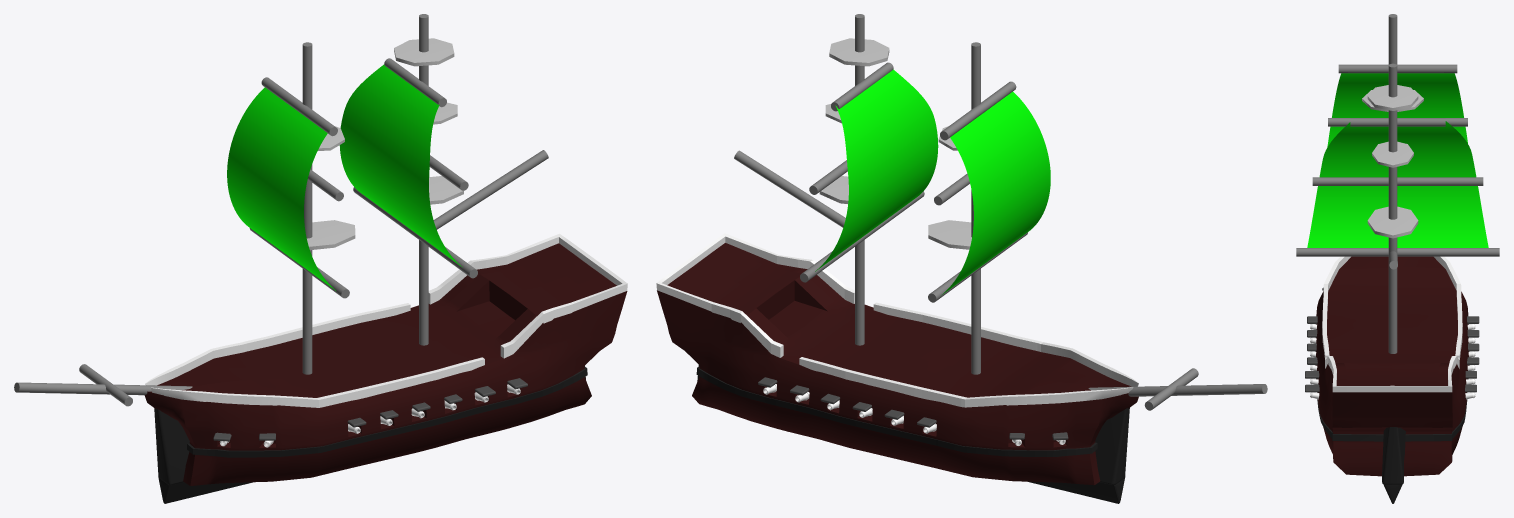
The model's file is boat.obj.
3 renders of one model, left to right at view 1: azimuth 30°, elevation 25°; view 2: azimuth 150°, elevation 25°; view 3: azimuth 270°, elevation 25°, orthographic. The views are drawn at different scales.
Visible parts, largest first — view 1: bateau:Trappe_a_canon_G_bateau:polySurface6, pPlane6, bateau:Trappe_a_canon_G_bateau:polySurface1, bateau:Trappe_a_canon_G_bateau:polySurface62, polySurface29, polySurface16, polySurface31, polySurface17, polySurface27, polySurface20, bateau:Trappe_a_canon_G_bateau:polySurface44, polySurface21 (+3 smaller); view 2: bateau:Trappe_a_canon_G_bateau:polySurface6, pPlane6, bateau:Trappe_a_canon_G_bateau:polySurface1, bateau:Trappe_a_canon_G_bateau:polySurface62, polySurface29, polySurface16, polySurface31, polySurface17, polySurface27, bateau:Trappe_a_canon_G_bateau:polySurface44, polySurface20, polySurface21 (+2 smaller); view 3: bateau:Trappe_a_canon_G_bateau:polySurface6, pPlane6, bateau:Trappe_a_canon_G_bateau:polySurface1, bateau:Trappe_a_canon_G_bateau:polySurface62, polySurface16, polySurface24, polySurface23, bateau:Trappe_a_canon_G_bateau:polySurface44, polySurface25, polySurface21, polySurface27, polySurface22 (+5 smaller).
Part boxes in pixels (x1,y1,x2,y2): bateau:Trappe_a_canon_G_bateau:polySurface6: (144,243,627,485); pPlane6: (227,64,462,290); bateau:Trappe_a_canon_G_bateau:polySurface1: (145,233,627,407); bateau:Trappe_a_canon_G_bateau:polySurface62: (154,366,587,503); polySurface29: (302,42,312,374); polySurface16: (419,14,428,345); polySurface31: (14,382,192,395); polySurface17: (433,150,548,229); polySurface27: (394,38,454,66); polySurface20: (307,220,355,250); bateau:Trappe_a_canon_G_bateau:polySurface44: (213,378,527,441); polySurface21: (261,77,337,136); bateau:Trappe_a_canon_G_bateau:polySurface6: (657,243,1138,485); pPlane6: (815,69,1050,294); bateau:Trappe_a_canon_G_bateau:polySurface1: (656,233,1138,407); bateau:Trappe_a_canon_G_bateau:polySurface62: (696,365,1129,503); polySurface29: (971,42,980,374); polySurface16: (855,14,864,345); polySurface31: (1088,384,1267,396); polySurface17: (734,150,845,227); polySurface27: (829,38,889,66); bateau:Trappe_a_canon_G_bateau:polySurface44: (758,377,1068,440); polySurface20: (928,220,971,249); polySurface21: (940,81,1016,140); bateau:Trappe_a_canon_G_bateau:polySurface6: (1315,256,1469,476); pPlane6: (1307,73,1488,247); bateau:Trappe_a_canon_G_bateau:polySurface1: (1322,256,1462,392); bateau:Trappe_a_canon_G_bateau:polySurface62: (1316,324,1469,503); polySurface16: (1388,63,1397,353); polySurface24: (1296,248,1499,256); polySurface23: (1312,177,1483,185); bateau:Trappe_a_canon_G_bateau:polySurface44: (1305,287,1479,392); polySurface25: (1367,206,1418,238); polySurface21: (1338,64,1457,73); polySurface27: (1367,85,1418,110); polySurface22: (1350,118,1445,126).
Size of the model in its own units: 23.26 by 16.36 by 8.12.
